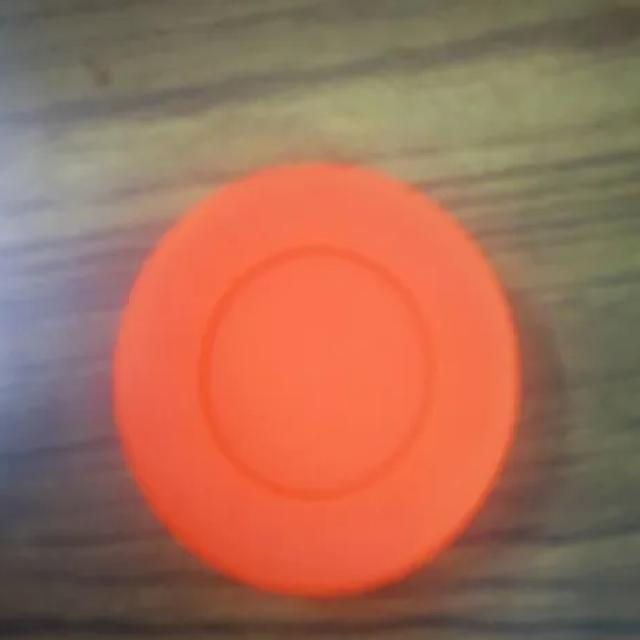chip: (117, 165, 529, 600)
